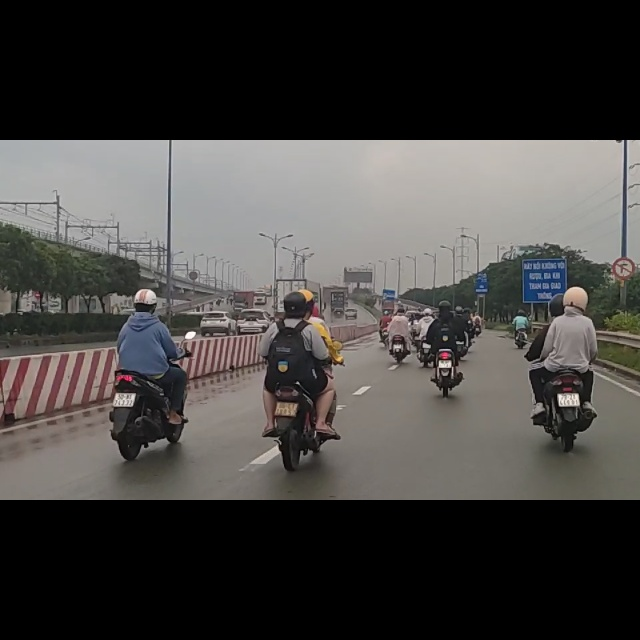bien_cam: (613, 211, 635, 247)
